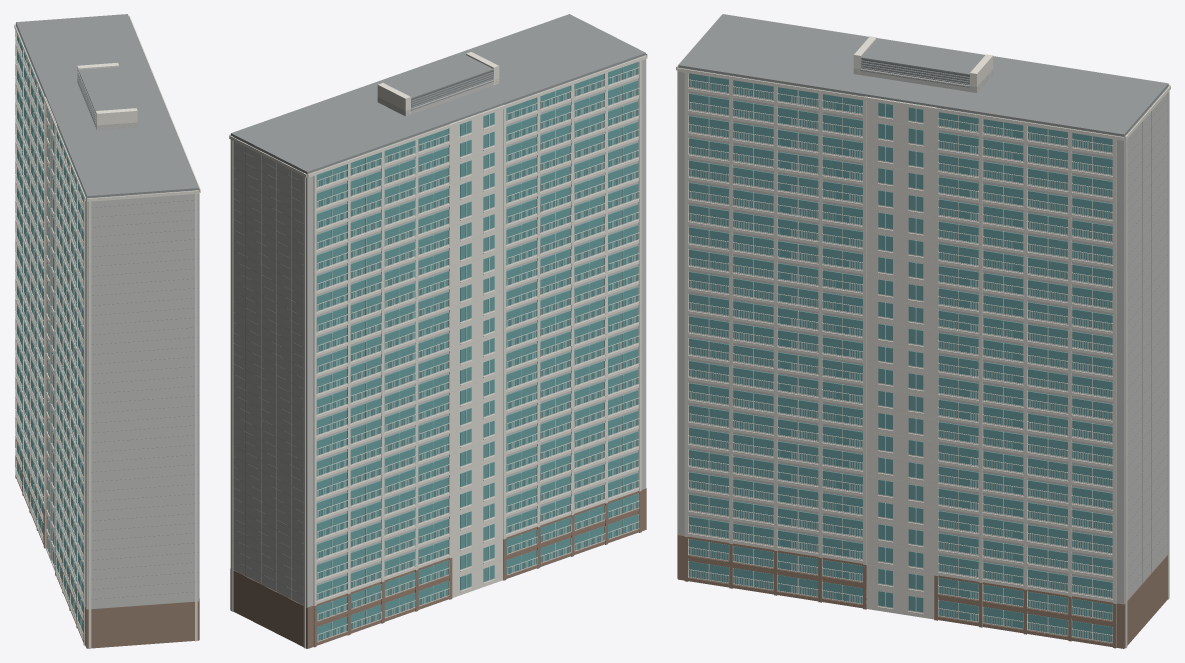
The model's file is bespoke-jamsil-els-132.glb.
The picture shows the model from 3 angles, left to right: view 1: azimuth 30°, elevation 25°; view 2: azimuth 150°, elevation 25°; view 3: azimuth 270°, elevation 25°; orthographic projection. The views are drawn at different scales.
Parts seen in each view (by area): view 1: Els132_editable_Els132_light_grey_solid_wall, Els132_editable_Els132_modest_grey_flat_roof_caps, Els132_editable_Els132_turquoise_balcony_glazing, Els132_white_exact_chunk_0, Els132_white_exact_chunk_1, Els132_white_exact_chunk_3, Els132_white_exact_chunk_2, Els132_editable_Els132_muted_ground_wall, Els132_white_exact_chunk_6, Els132_white_exact_chunk_4; view 2: Els132_editable_Els132_turquoise_balcony_glazing, Els132_editable_Els132_light_grey_solid_wall, Els132_white_exact_chunk_0, Els132_white_exact_chunk_1, Els132_editable_Els132_modest_grey_flat_roof_caps, Els132_white_exact_chunk_2, Els132_white_exact_chunk_3, Els132_editable_Els132_muted_ground_wall, Els132_white_exact_chunk_6; view 3: Els132_editable_Els132_turquoise_balcony_glazing, Els132_editable_Els132_light_grey_solid_wall, Els132_white_exact_chunk_3, Els132_white_exact_chunk_4, Els132_editable_Els132_modest_grey_flat_roof_caps, Els132_white_exact_chunk_5, Els132_white_exact_chunk_6, Els132_editable_Els132_muted_ground_wall, Els132_white_exact_chunk_0, Els132_editable_Els132_narrow_charcoal_service_strips.
Boxes of the visible parts, left/top/right/bottom form: Els132_editable_Els132_light_grey_solid_wall: left=16, top=24, right=198, bottom=609; Els132_editable_Els132_modest_grey_flat_roof_caps: left=16, top=14, right=198, bottom=609; Els132_editable_Els132_turquoise_balcony_glazing: left=17, top=30, right=85, bottom=637; Els132_white_exact_chunk_0: left=15, top=23, right=57, bottom=570; Els132_white_exact_chunk_1: left=15, top=27, right=69, bottom=604; Els132_white_exact_chunk_3: left=14, top=24, right=199, bottom=648; Els132_white_exact_chunk_2: left=62, top=148, right=83, bottom=639; Els132_editable_Els132_muted_ground_wall: left=15, top=438, right=199, bottom=648; Els132_white_exact_chunk_6: left=77, top=15, right=200, bottom=192; Els132_white_exact_chunk_4: left=169, top=116, right=199, bottom=598; Els132_editable_Els132_turquoise_balcony_glazing: left=316, top=62, right=638, bottom=641; Els132_editable_Els132_light_grey_solid_wall: left=231, top=55, right=645, bottom=607; Els132_white_exact_chunk_0: left=229, top=105, right=503, bottom=648; Els132_white_exact_chunk_1: left=313, top=97, right=571, bottom=646; Els132_editable_Els132_modest_grey_flat_roof_caps: left=231, top=14, right=645, bottom=605; Els132_white_exact_chunk_2: left=540, top=61, right=639, bottom=551; Els132_white_exact_chunk_3: left=308, top=53, right=647, bottom=580; Els132_editable_Els132_muted_ground_wall: left=230, top=488, right=646, bottom=648; Els132_white_exact_chunk_6: left=229, top=52, right=499, bottom=135; Els132_editable_Els132_turquoise_balcony_glazing: left=689, top=73, right=1112, bottom=642; Els132_editable_Els132_light_grey_solid_wall: left=678, top=67, right=1168, bottom=603; Els132_white_exact_chunk_3: left=676, top=16, right=1169, bottom=619; Els132_white_exact_chunk_4: left=684, top=69, right=1023, bottom=629; Els132_editable_Els132_modest_grey_flat_roof_caps: left=678, top=14, right=1168, bottom=599; Els132_white_exact_chunk_5: left=982, top=119, right=1112, bottom=642; Els132_white_exact_chunk_6: left=677, top=36, right=1123, bottom=647; Els132_editable_Els132_muted_ground_wall: left=677, top=534, right=1167, bottom=648; Els132_white_exact_chunk_0: left=1125, top=85, right=1170, bottom=647; Els132_editable_Els132_narrow_charcoal_service_strips: left=861, top=58, right=969, bottom=83.
Size of the model in its own units: 30.85 by 62.75 by 52.75.
